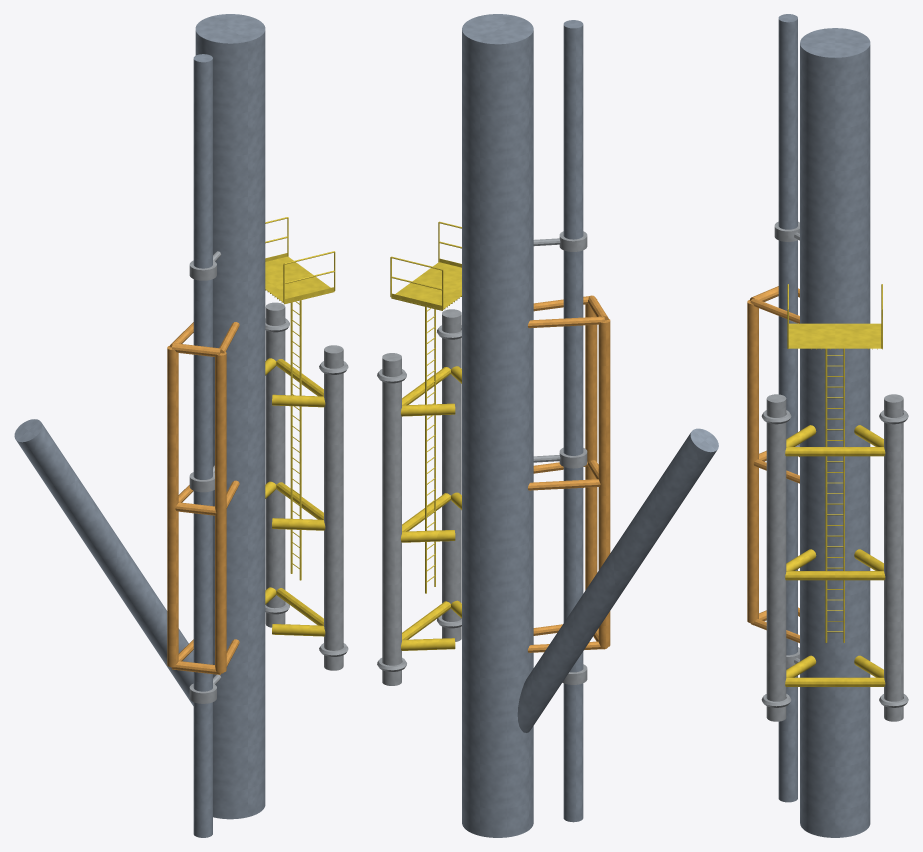
The model's file is boat-landings-and-riser-guards.glb.
3 views of the same model, side by side, from view 1: azimuth 30°, elevation 25°; view 2: azimuth 150°, elevation 25°; view 3: azimuth 270°, elevation 25° (orthographic). The views are drawn at different scales.
Visible parts, largest first — view 1: JacketLeg&Riser(context), Bumpers, RiserGuard, AccessLadder&RestPlatform, BoatLandingFrame, RiserClamps; view 2: JacketLeg&Riser(context), Bumpers, RiserGuard, AccessLadder&RestPlatform, BoatLandingFrame, RiserClamps; view 3: JacketLeg&Riser(context), Bumpers, BoatLandingFrame, RiserGuard, AccessLadder&RestPlatform, RiserClamps.
Boxes of the visible parts, x1,y1,x2,y2 form: JacketLeg&Riser(context): (14,14,265,837); Bumpers: (265,302,348,670); RiserGuard: (167,322,239,674); AccessLadder&RestPlatform: (265,217,335,580); BoatLandingFrame: (265,358,325,636); RiserClamps: (189,251,221,703); JacketLeg&Riser(context): (462,14,718,837); Bumpers: (377,309,461,685); RiserGuard: (527,295,610,652); AccessLadder&RestPlatform: (390,221,461,593); BoatLandingFrame: (400,366,461,650); RiserClamps: (533,231,587,684); JacketLeg&Riser(context): (778,14,870,837); Bumpers: (761,394,908,721); BoatLandingFrame: (785,425,885,686); RiserGuard: (747,286,799,643); AccessLadder&RestPlatform: (787,284,882,642); RiserClamps: (774,221,799,667).
Size of the model in its own units: 8.92 by 22 by 4.13.
Materials: 5 (5 with a texture image).
